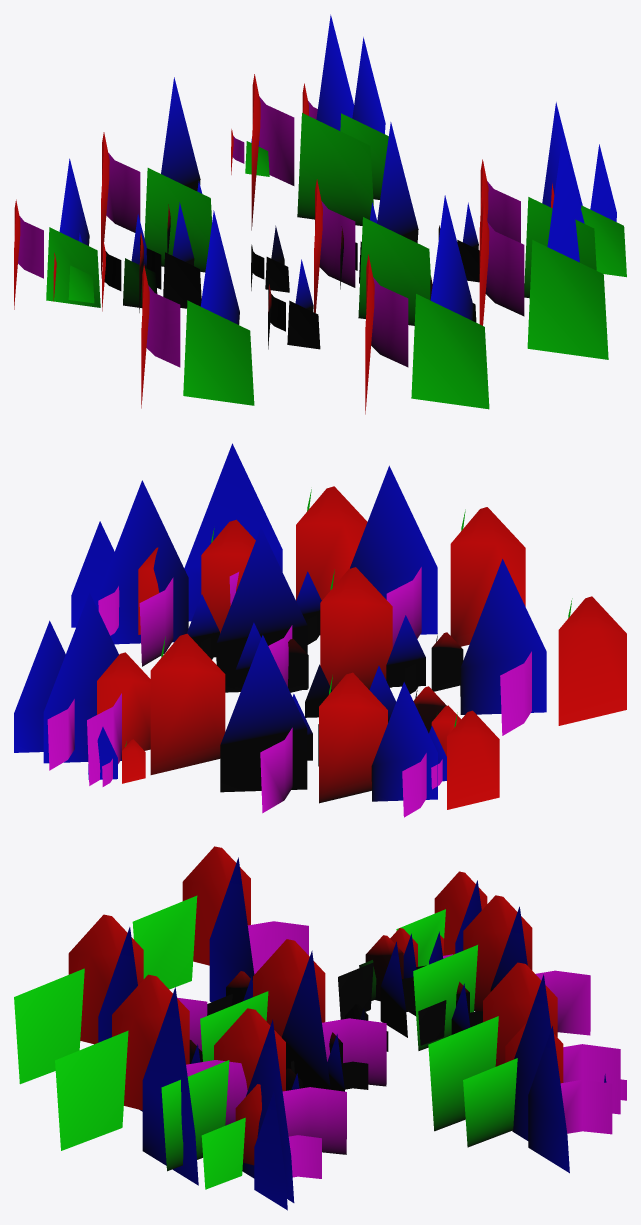
File: SM_GrassPack_02.fbx
The picture shows the model from 3 angles, top to bottom: view 1: azimuth 30°, elevation 25°; view 2: azimuth 150°, elevation 25°; view 3: azimuth 270°, elevation 25°; orthographic projection. The views are drawn at different scales.
Visible parts, largest first — view 1: attribtransfer1; view 2: attribtransfer1; view 3: attribtransfer1.
Part boxes in pixels (<box>): attribtransfer1: <box>14,14,626,414</box>; attribtransfer1: <box>14,443,626,817</box>; attribtransfer1: <box>14,846,626,1210</box>.
Size of the model in its own units: 185 by 62.6 by 192.
